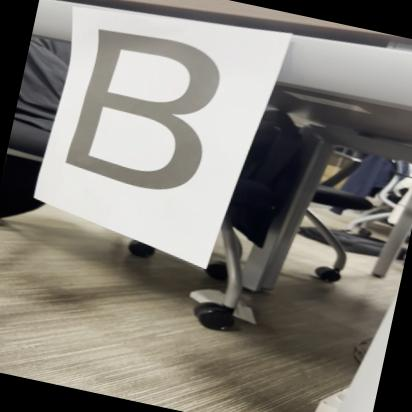seat: (54, 15, 248, 216)
